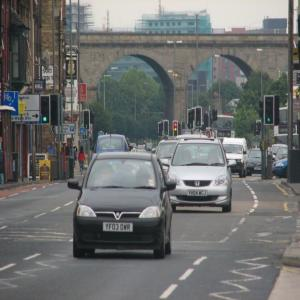Vehicle-registration-plate: (104, 222, 134, 232), (188, 191, 208, 196)
